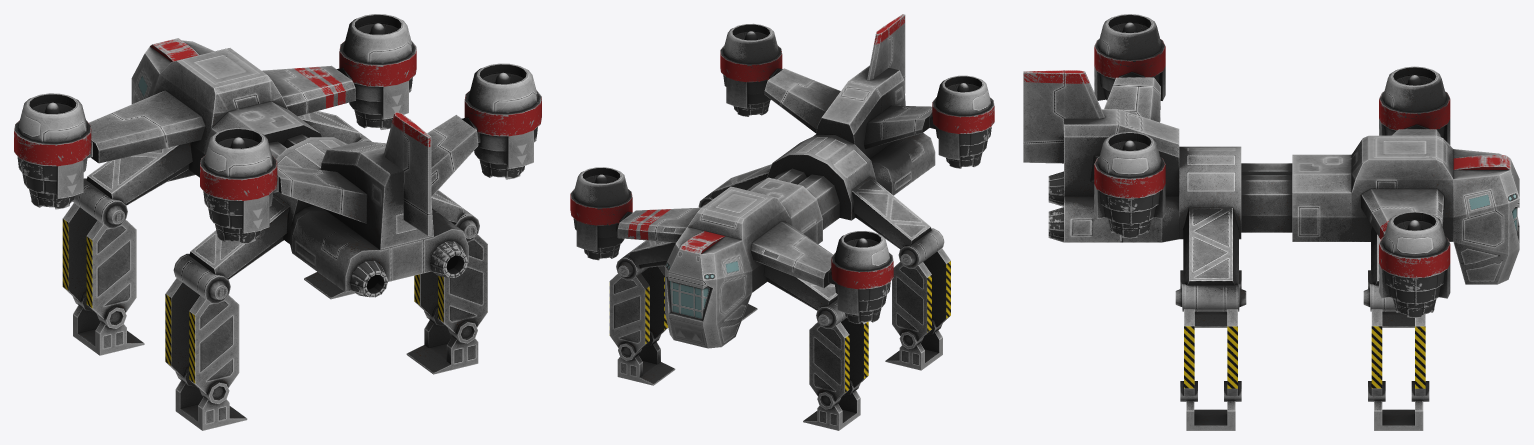
Rendered from Bishop.FBX.
The picture shows the model from 3 angles, left to right: view 1: azimuth 30°, elevation 25°; view 2: azimuth 150°, elevation 25°; view 3: azimuth 270°, elevation 25°; orthographic projection. The views are drawn at different scales.
Visible parts, largest first — view 1: body, engine_1, engine_2, leg_1, leg_2, engine_4, engine_3, leg_4, stabilizer, foot_4, foot_2, foot_1 (+1 smaller); view 2: body, engine_2, engine_1, engine_3, leg_2, engine_4, leg_1, leg_3, stabilizer, foot_3, foot_1, foot_2; view 3: body, engine_3, engine_4, stabilizer, engine_2, engine_1, leg_3, leg_4, foot_4, foot_3, foot_2, foot_1.
Part boxes in pixels (bbox=[...]): body: bbox=[72, 38, 479, 303]; engine_1: bbox=[14, 93, 92, 209]; engine_2: bbox=[200, 128, 278, 244]; leg_1: bbox=[62, 203, 136, 328]; leg_2: bbox=[165, 278, 239, 403]; engine_4: bbox=[461, 63, 541, 179]; engine_3: bbox=[337, 14, 416, 129]; leg_4: bbox=[414, 234, 487, 343]; stabilizer: bbox=[384, 112, 431, 235]; foot_4: bbox=[406, 320, 478, 374]; foot_2: bbox=[175, 380, 247, 430]; foot_1: bbox=[73, 305, 144, 355]; body: bbox=[616, 65, 944, 348]; engine_2: bbox=[929, 75, 994, 168]; engine_1: bbox=[828, 231, 893, 323]; engine_3: bbox=[570, 167, 632, 260]; leg_2: bbox=[892, 248, 950, 349]; engine_4: bbox=[720, 23, 782, 116]; leg_1: bbox=[809, 318, 868, 409]; leg_3: bbox=[609, 266, 668, 360]; stabilizer: bbox=[867, 14, 905, 93]; foot_3: bbox=[617, 341, 675, 385]; foot_1: bbox=[803, 390, 860, 430]; foot_2: bbox=[885, 330, 942, 370]; body: bbox=[1048, 77, 1519, 311]; engine_3: bbox=[1379, 211, 1450, 317]; engine_4: bbox=[1094, 132, 1165, 238]; stabilizer: bbox=[1023, 70, 1104, 163]; engine_2: bbox=[1094, 14, 1165, 100]; engine_1: bbox=[1379, 66, 1450, 144]; leg_3: bbox=[1368, 309, 1429, 401]; leg_4: bbox=[1180, 309, 1241, 401]; foot_4: bbox=[1186, 400, 1235, 430]; foot_3: bbox=[1374, 400, 1423, 430]; foot_2: bbox=[1194, 311, 1227, 327]; foot_1: bbox=[1382, 311, 1414, 327].
Bounding box in the file's own units: 133 × 105 × 159.
